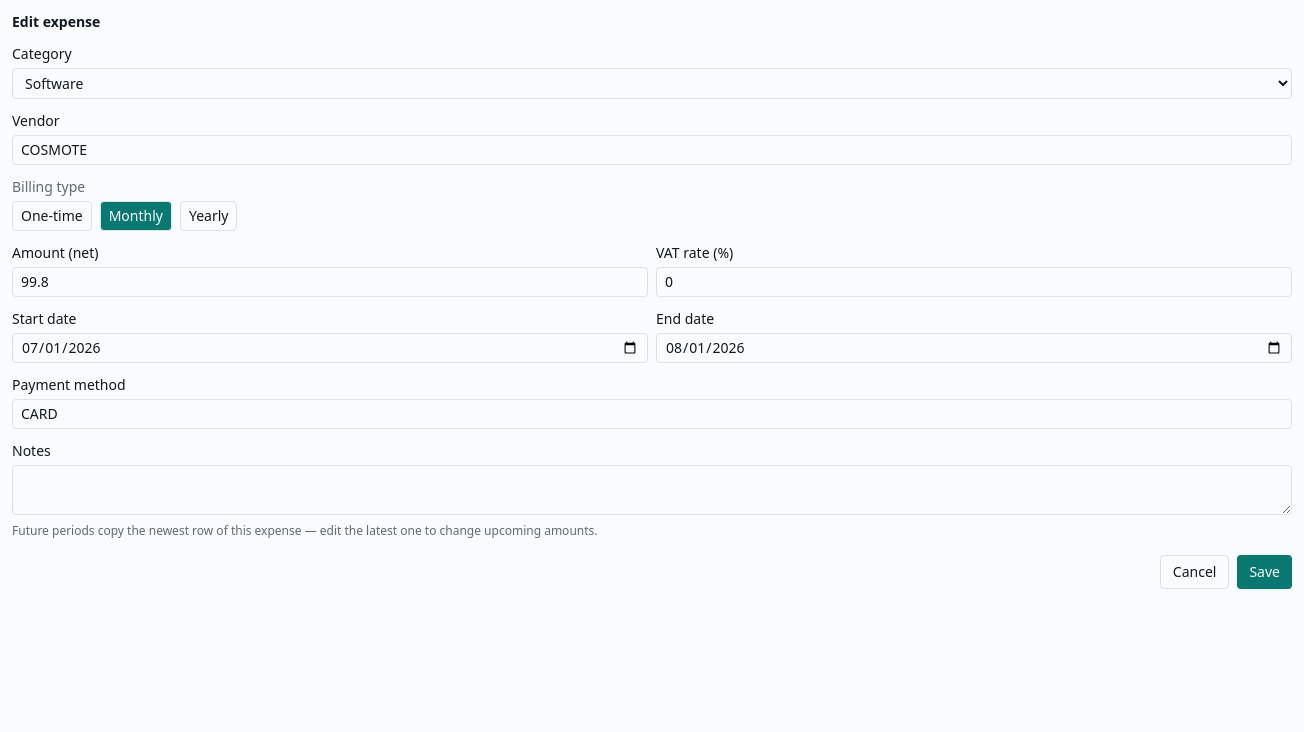
Test case: ExpenseEditForm › blocks save when end date is before start date
Type "2026-06-01" into the date field labelled "End date". click: (974, 348)
box: 656,333 -> 1292,363
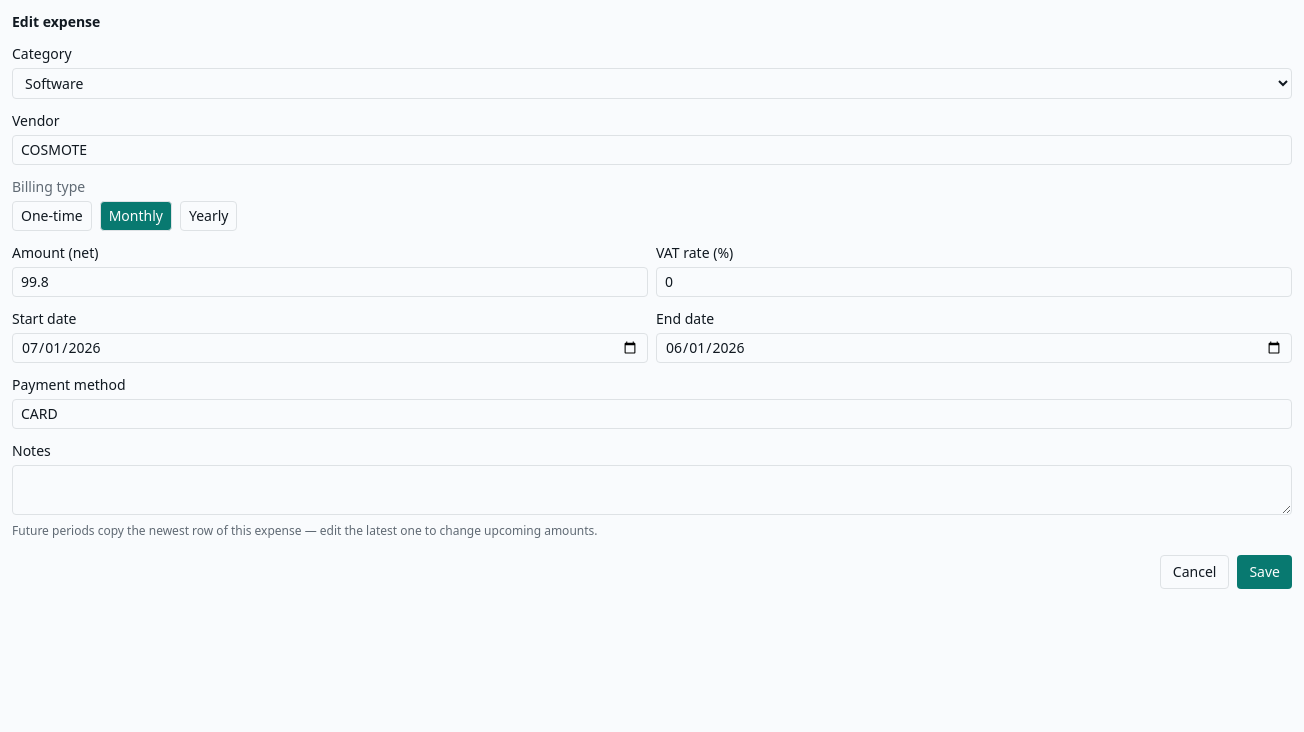
Click the button "Save". click: click(1265, 572)
box: 1237,555 -> 1292,589
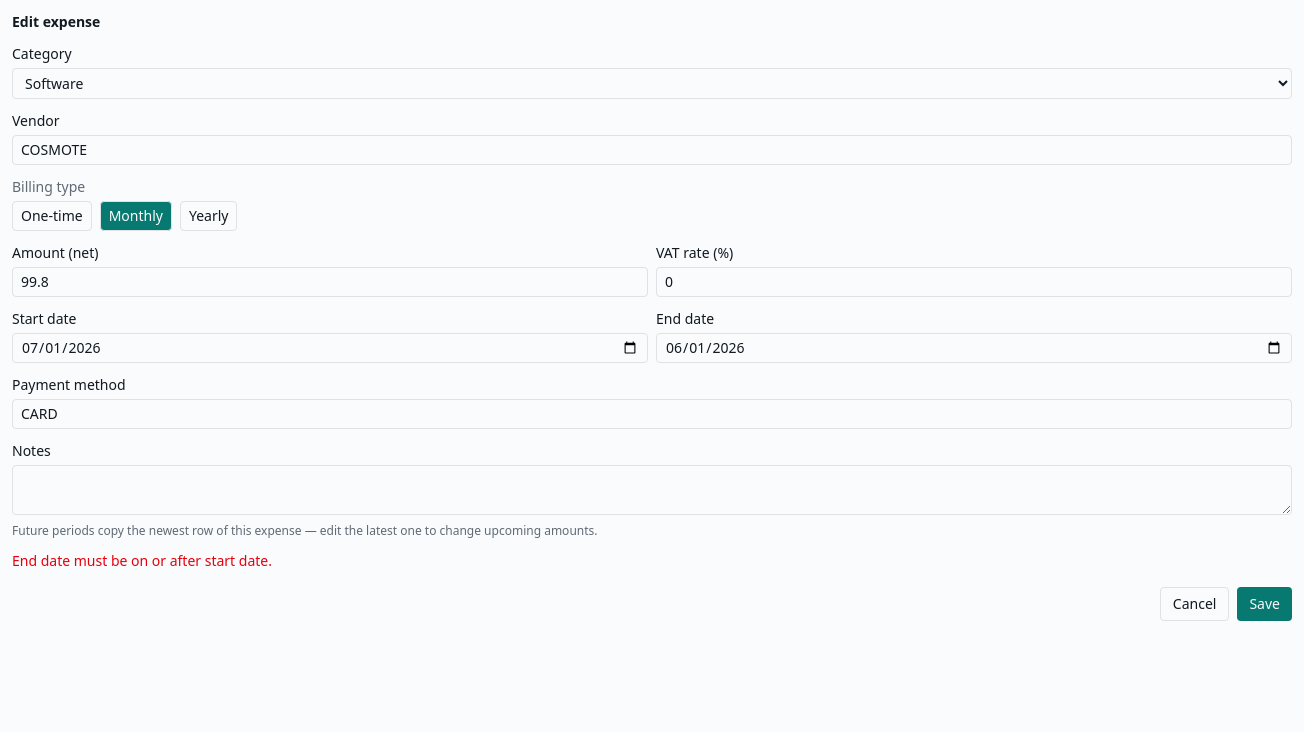
Now the text "End date must be on or after start date." is shown, box 12,551 -> 272,570
